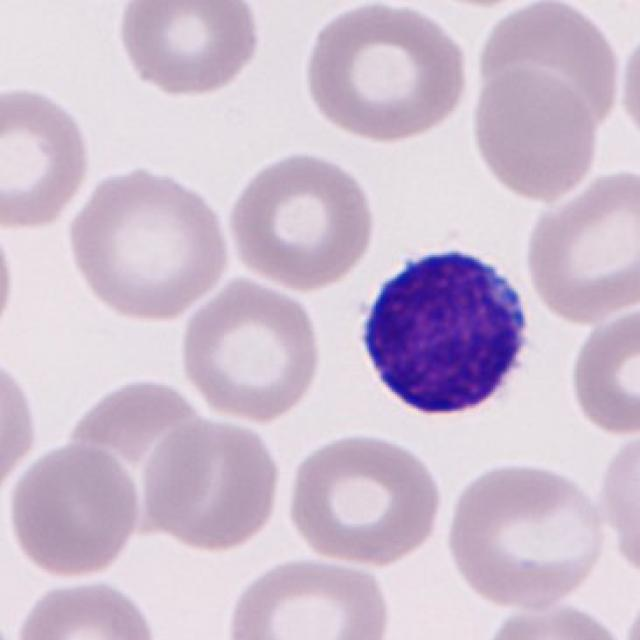Lymphocyte: (348, 232, 542, 427)
RBC: (61, 160, 236, 326), (441, 456, 612, 612), (62, 382, 227, 540), (299, 0, 474, 146), (283, 428, 446, 569), (175, 274, 325, 427), (224, 146, 379, 291), (470, 0, 624, 140), (136, 414, 285, 554), (4, 439, 145, 579), (521, 163, 638, 326), (467, 64, 601, 203), (220, 551, 395, 640), (112, 0, 266, 99), (0, 78, 96, 234), (565, 303, 640, 439), (9, 574, 161, 640), (474, 596, 633, 640), (595, 427, 638, 581), (0, 349, 42, 501), (617, 24, 640, 148), (0, 210, 19, 354), (617, 579, 640, 640), (0, 614, 21, 640)
